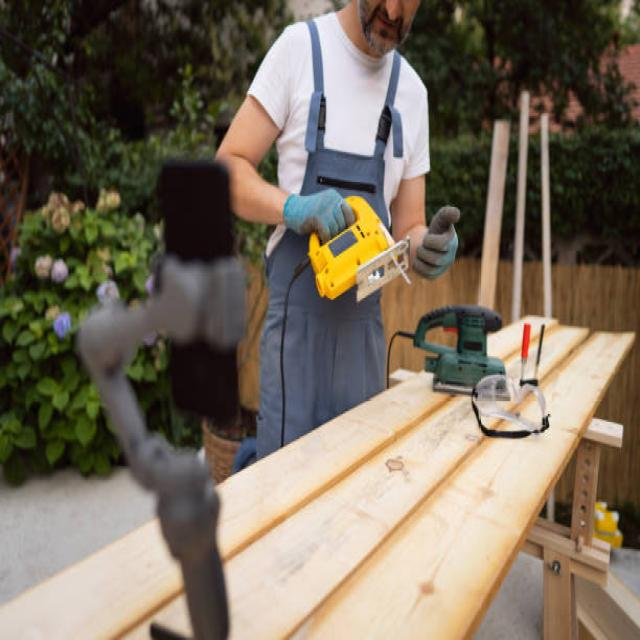Gloves: (279, 184, 358, 247), (412, 200, 464, 284)
person: (216, 0, 468, 469)
